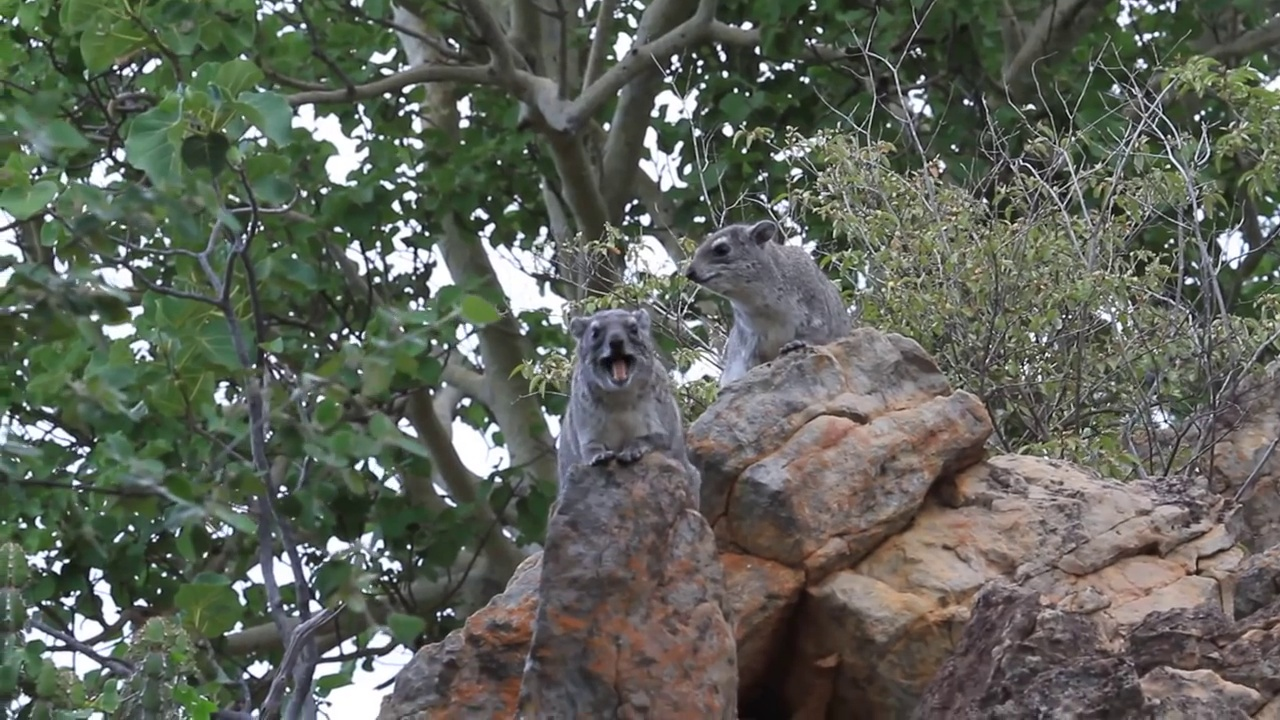Rock Hyrex: (682, 217, 855, 399), (557, 306, 688, 492)
